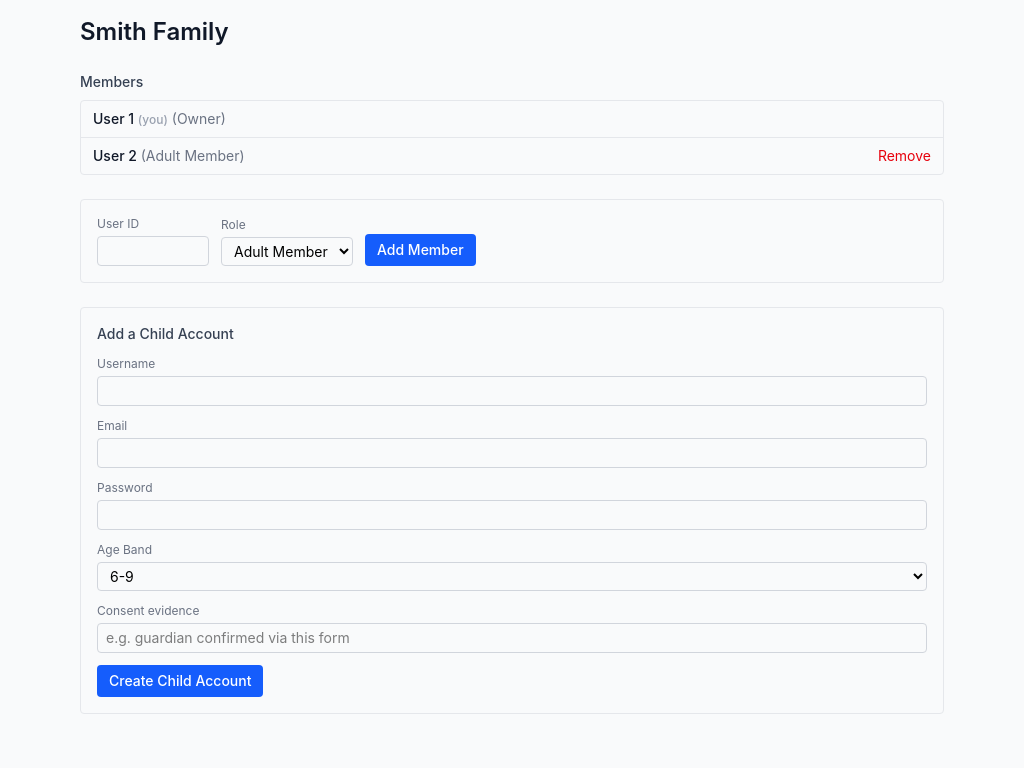
Test case: HouseholdDetailPage › creates a child account via the form, using step-up
This screenshot has width=1024, height=768.
Expected: the heading "Smith Family" is shown, [80,17,229,46]
Type "kiddo" into the field labelled "Username".
click(512, 391); type("kiddo")  # box [97,376,927,406]
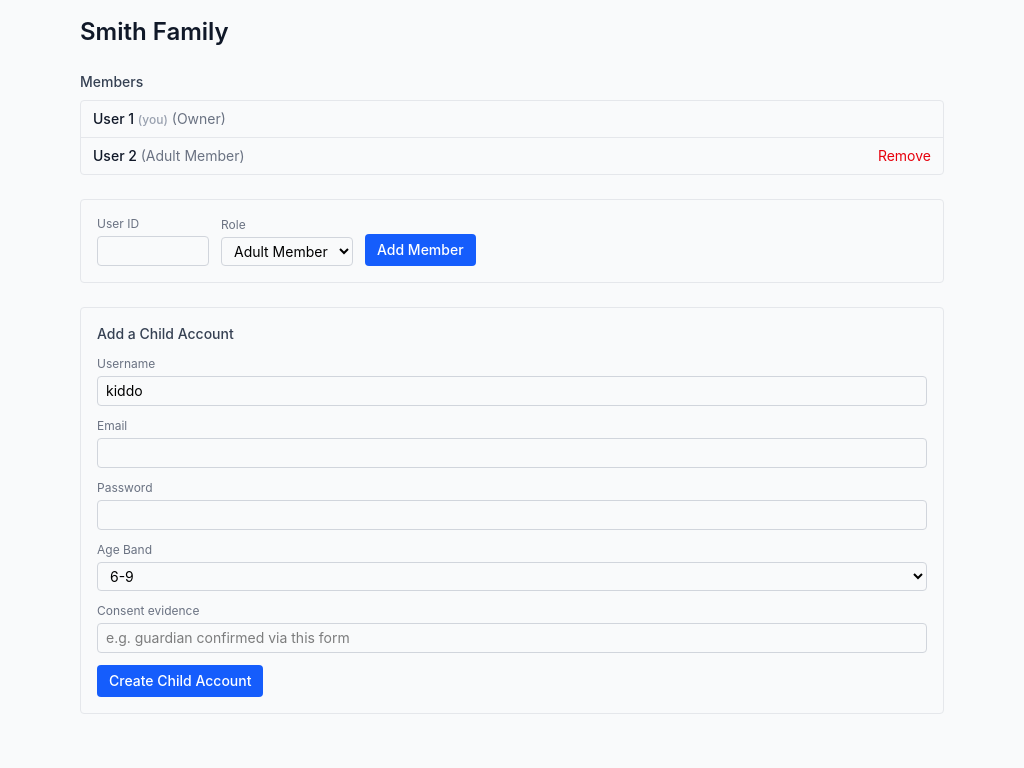
Type "kiddo@example.com" into the field labelled "Email".
click(512, 453); type("kiddo@example.com")  # box [97,438,927,468]
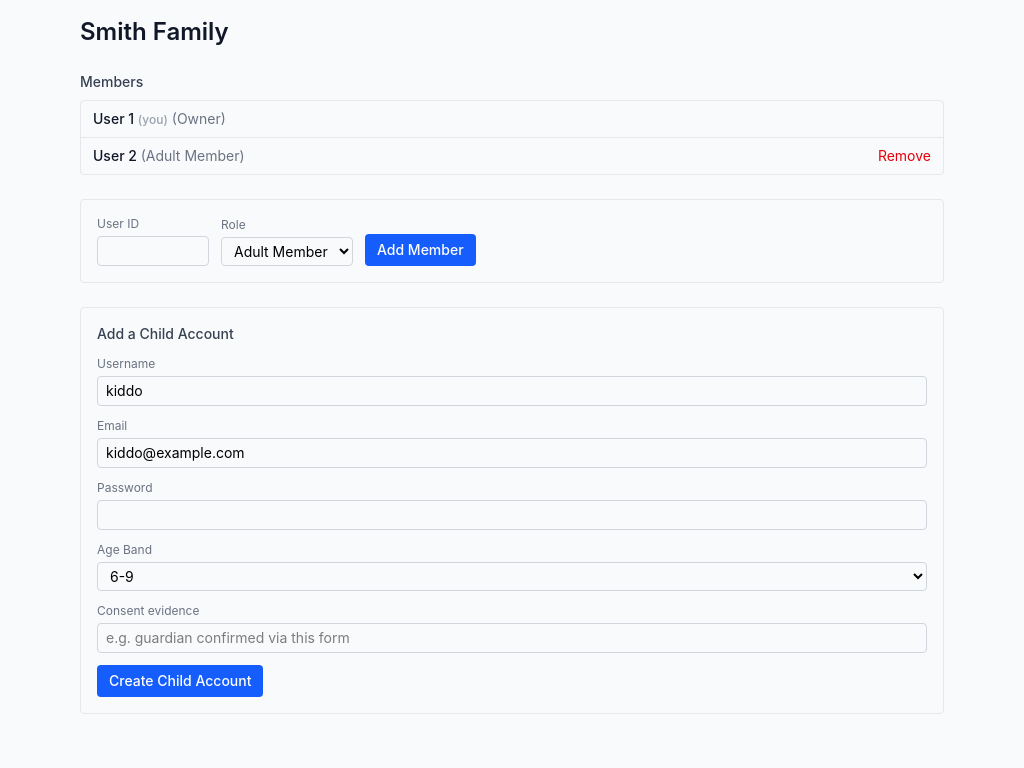
Type "correct-password" into the password field labelled "Password".
click(512, 515); type("correct-password")  # box [97,500,927,530]
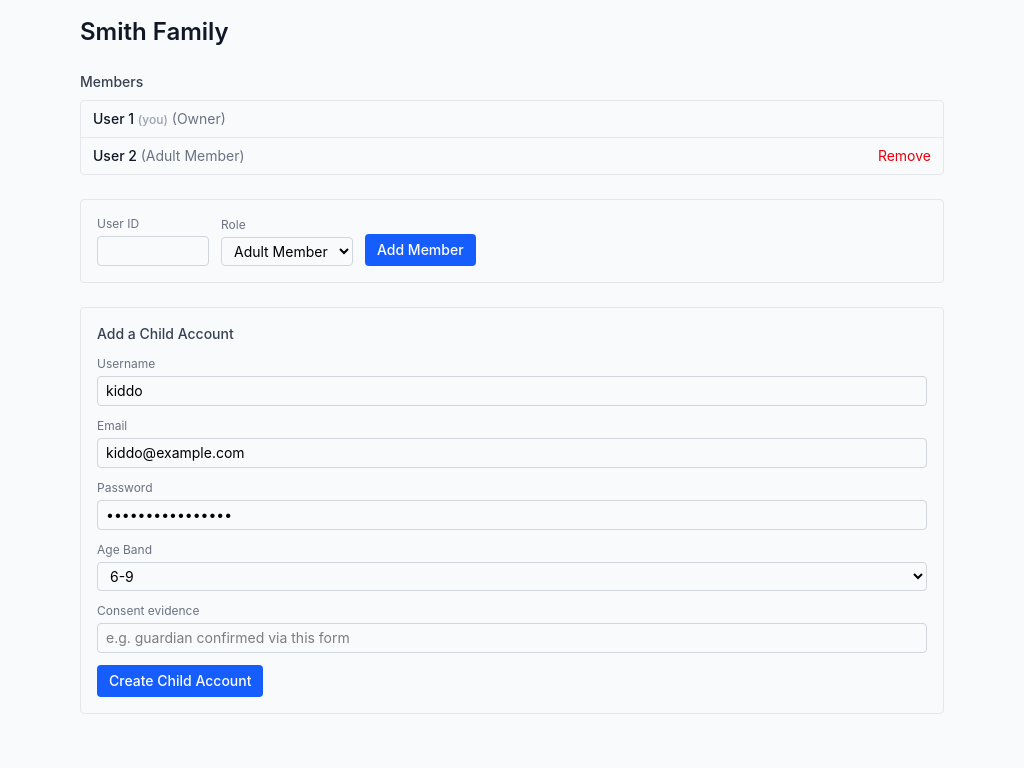
Type "guardian confirmed via this form" into the field labelled "Consent evidence".
click(512, 638); type("guardian confirmed via this form")  # box [97,623,927,653]
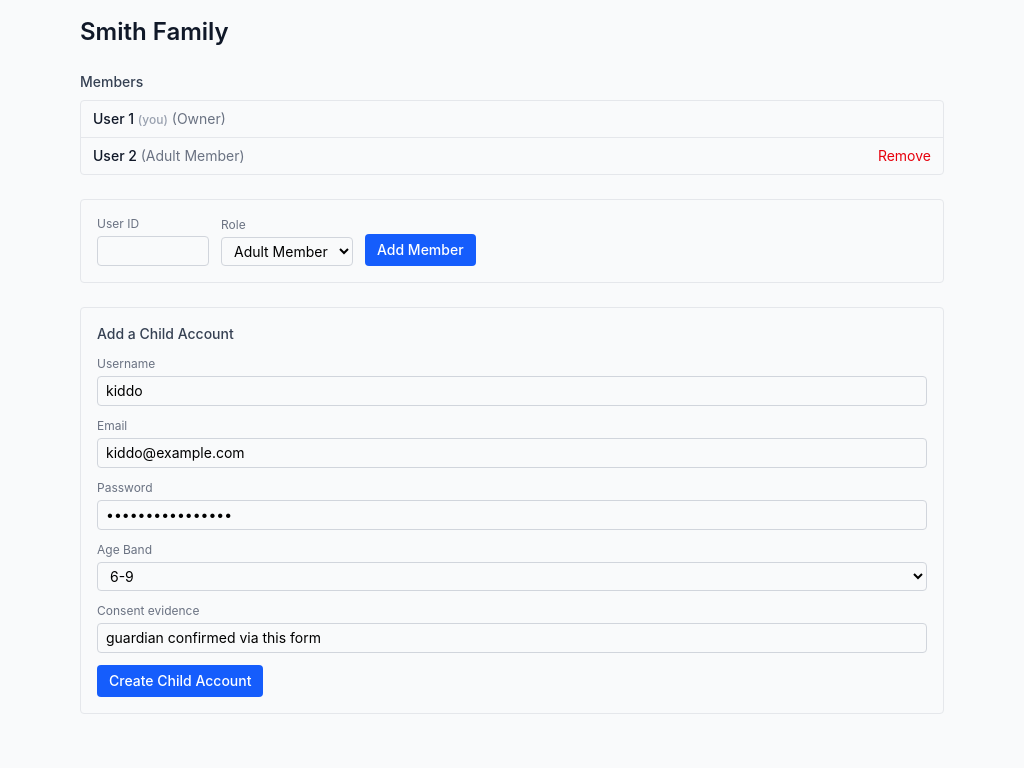
Click the button "Create Child Account".
click(180, 681)  # box [97,665,264,697]
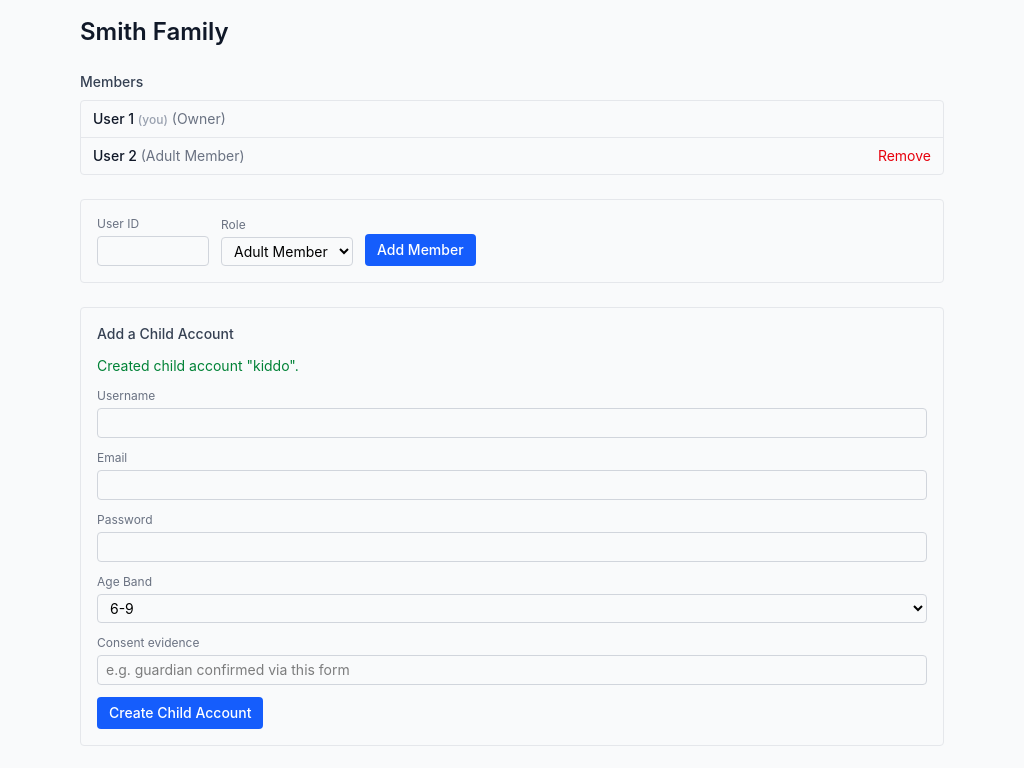
Result: the text "Created child account \"kiddo\"." is shown at [97,357,299,374]
